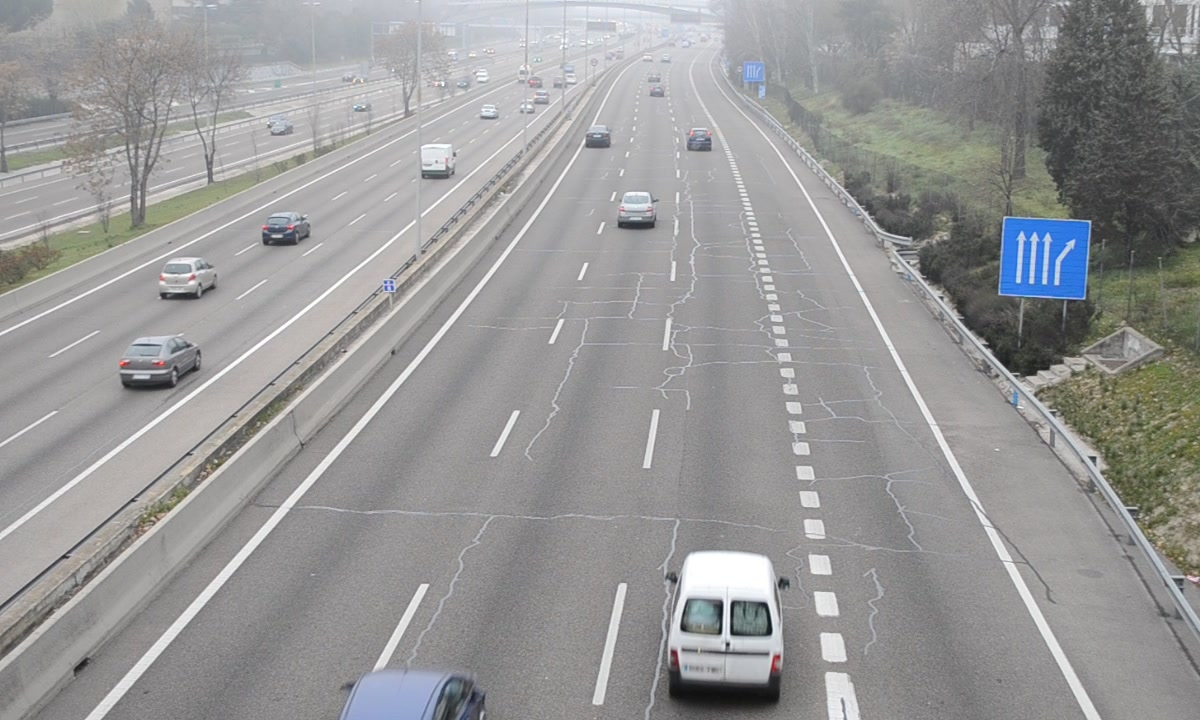car: (617, 190, 656, 227), (686, 127, 714, 153), (585, 125, 612, 150)
van: (666, 552, 785, 698)
